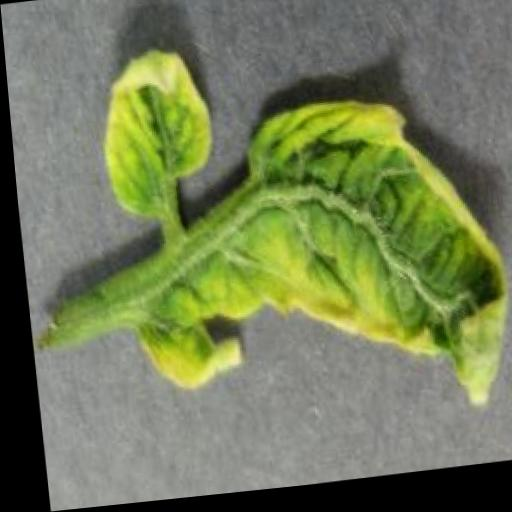Yellow Leaf Curl Virus: (113, 94, 512, 449), (93, 48, 215, 221)
